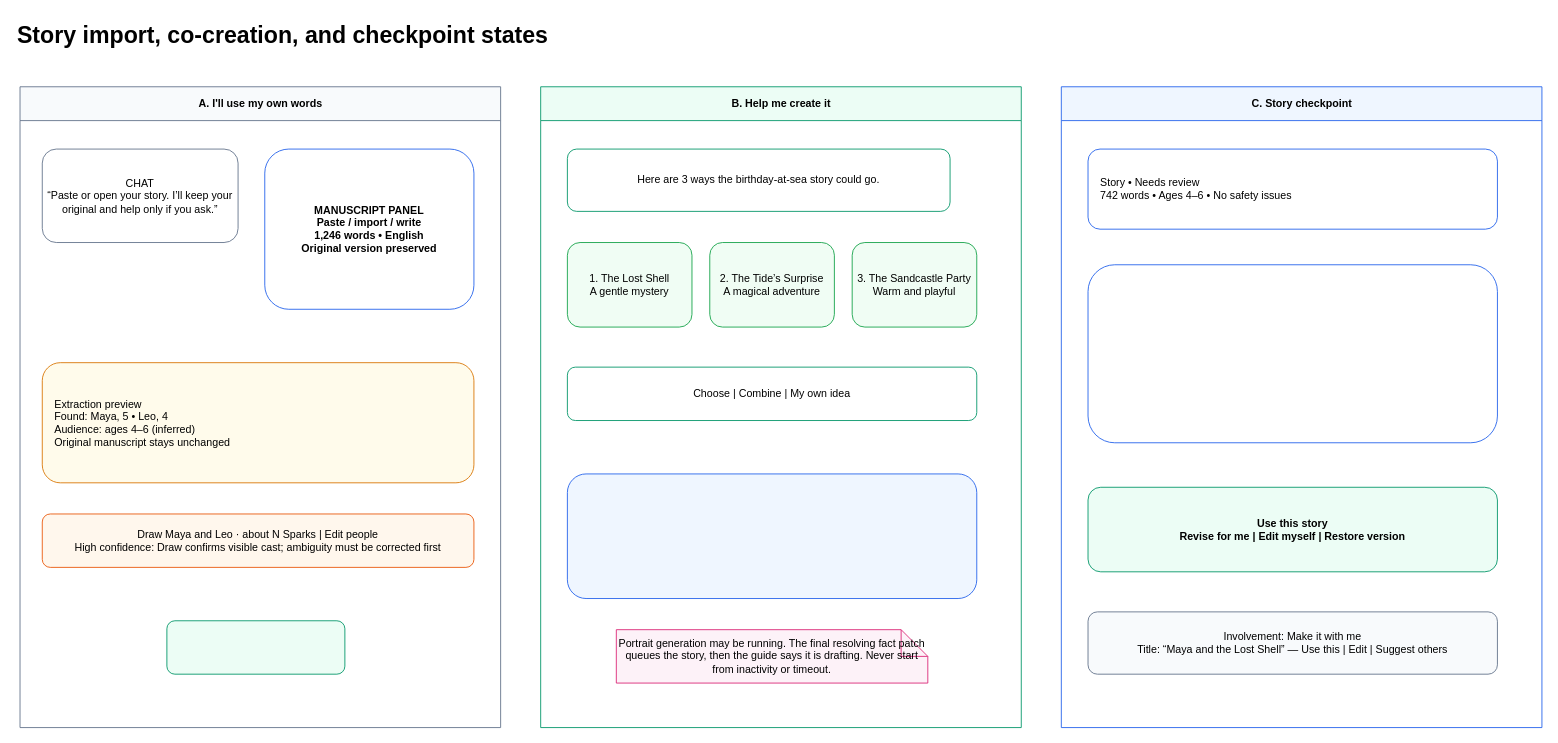
Image size: 1558x743. Some labels were removed from this diagram. The shapes that lost their labels are listed below. From the top down, each one's centre as x and y in pixels, then its label:
point (1292, 353): MANUSCRIPT PREVIEW Selected paragraph is synchronized with chat context.
point (771, 536): BOOK PANE The story is the page. Click a paragraph and type. No second prompt.
point (255, 647): Mark story ready
